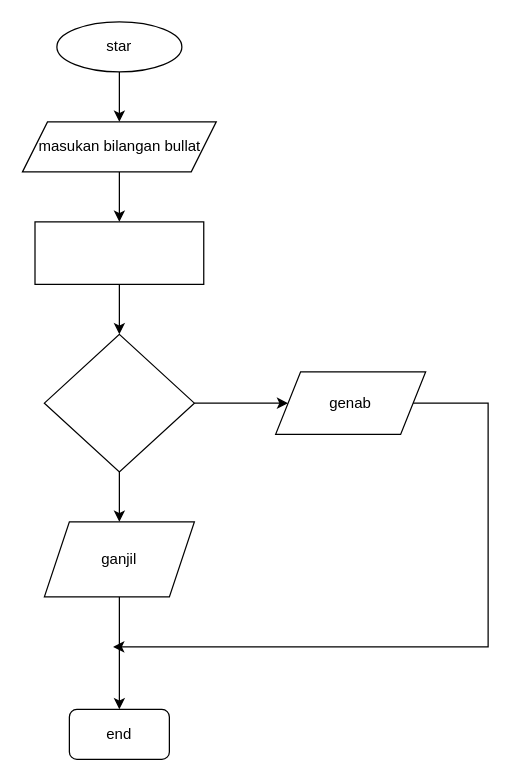
The diagram is 520 pixels wide and 781 high, and some of its shapes have lost their labels. The centre of each missing label's shape, as x and y in pixels:
? sisa bagi =0: (x=118, y=402)
bilangan dibagi 2 dengan operasi sisa bagi: (x=119, y=252)
